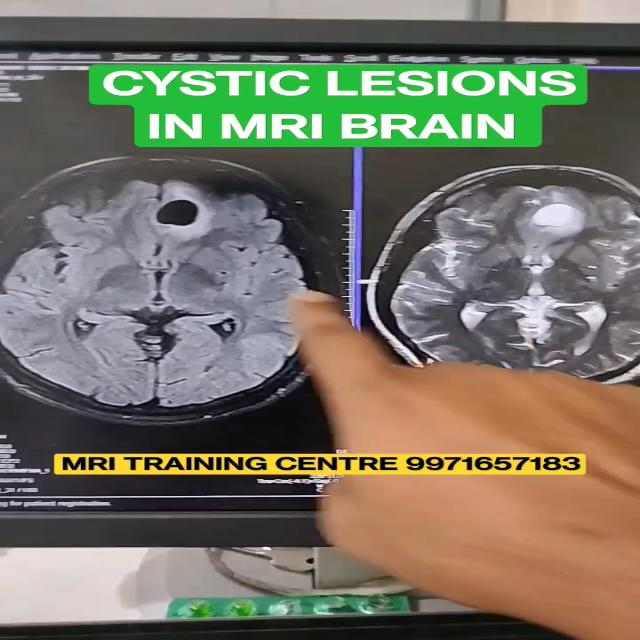tumor: (519, 189, 597, 244), (137, 187, 225, 231)
